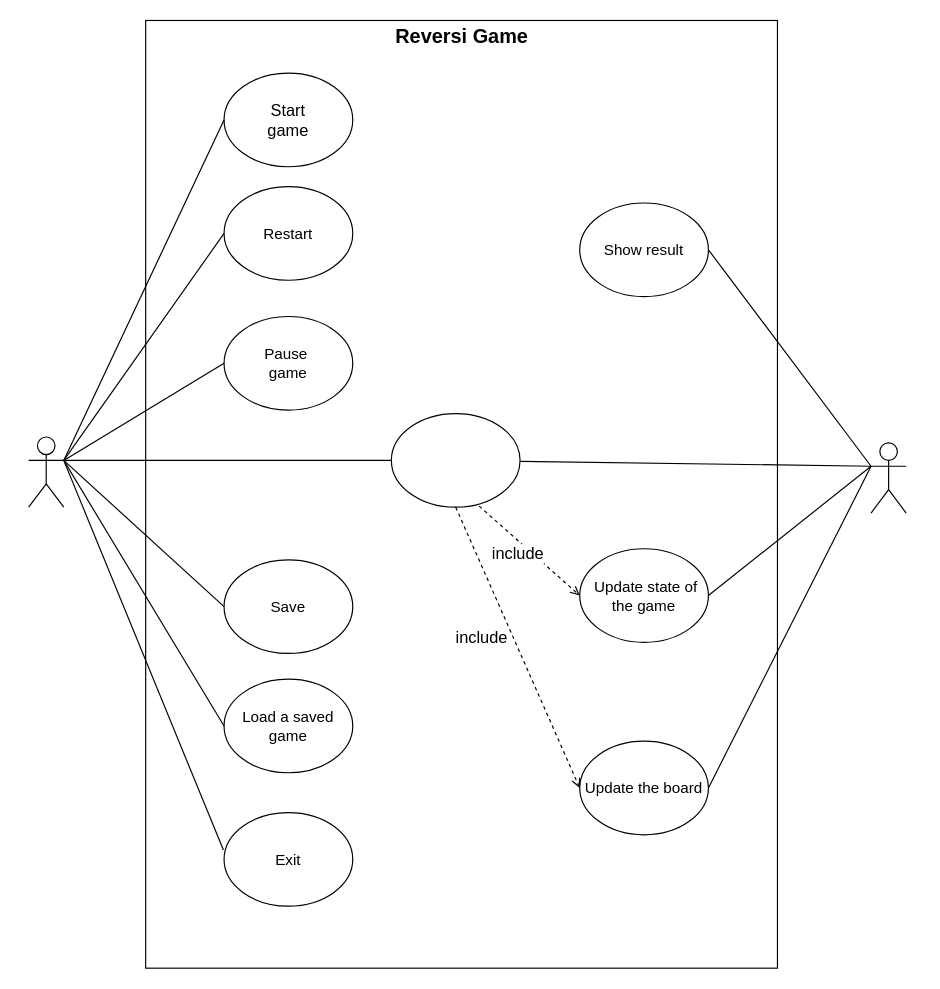
Some shapes in this 940 by 989 pixel diagram are drawn without their labels. The centre of each missing label's shape, as x and y in pixels:
Place a disc: (x=455, y=459)
Player: (x=45, y=471)
System: (x=888, y=477)
